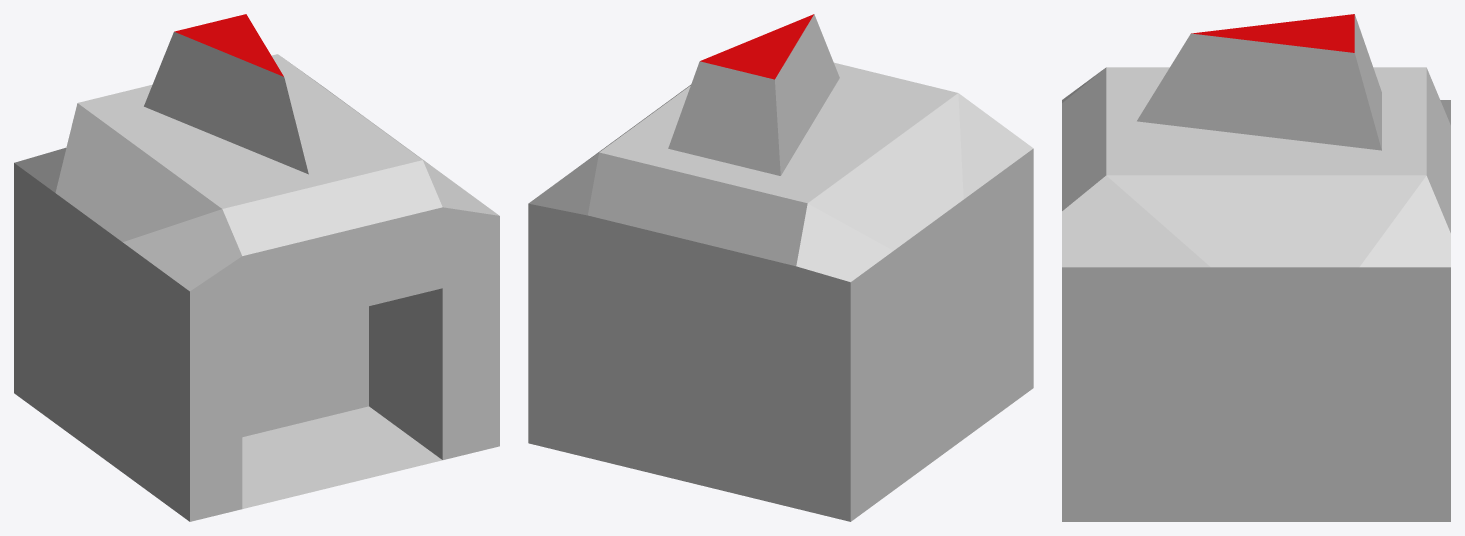
Rendered from EnemyBase.fbx.
The picture shows the model from 3 angles, left to right: view 1: azimuth 30°, elevation 25°; view 2: azimuth 150°, elevation 25°; view 3: azimuth 270°, elevation 25°; orthographic projection. The views are drawn at different scales.
Visible parts, largest first — view 1: Cube; view 2: Cube; view 3: Cube.
Boxes of the visible parts, bbox=[...] form: Cube: bbox=[14, 14, 499, 521]; Cube: bbox=[528, 14, 1033, 521]; Cube: bbox=[1062, 14, 1450, 521].
Size of the model in its own units: 1985 by 2234 by 1950.
